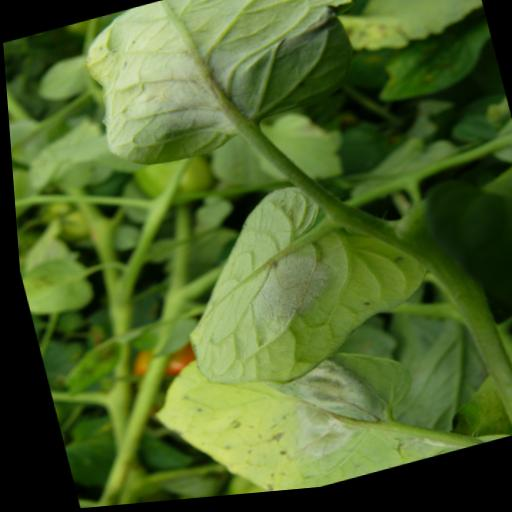Late Blight: (151, 155, 440, 401), (114, 299, 456, 505), (57, 0, 393, 182)
